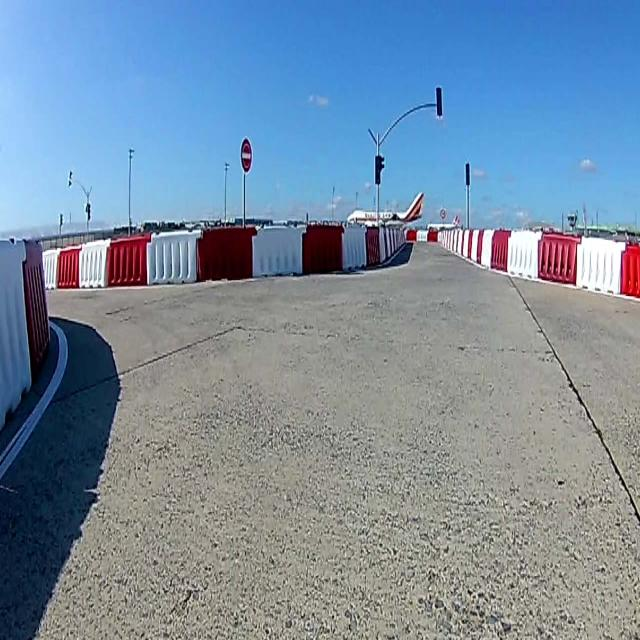girisyok: (240, 137, 252, 172)
